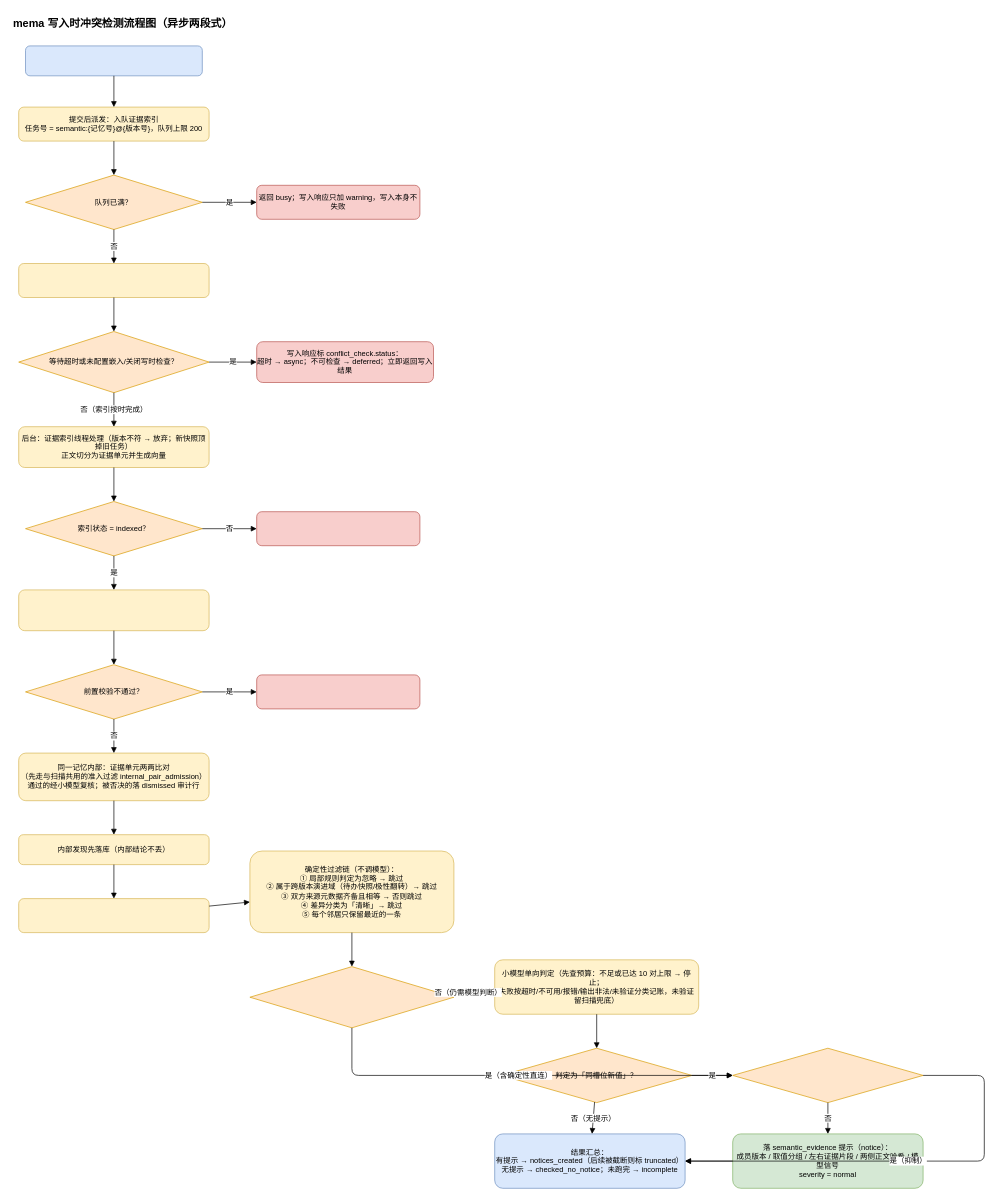
The diagram is 1002 pixels wide and 1200 high, and some of its shapes have lost their labels. Here are the shapes that lost their labels. From the top down, the box of each, then its label:
(25, 45, 202, 76): 写入落盘成功（insert_memory 已提交）
(18, 263, 209, 298): 同步等待索引结果 默认最多 3000 毫秒（可配置为 0 = 完全不等待）
(256, 511, 420, 546): 仅完成索引（冲突检查等下一轮）
(18, 589, 209, 631): 入队语义冲突检查（单线程串行） 前置校验：pending / active / 版本·哈希一致 / 后端与向量空间可用
(256, 674, 420, 709): 结束并给出原因： skipped / incomplete / stale_snapshot
(18, 898, 209, 933): 跨记忆：每个证据单元取向量近邻 top5 （同工作区、排除自身、只要正文类单元）
(249, 966, 454, 1028): 确定性直连：同一键、值不同 → 直接判定，不调用模型
(732, 1048, 923, 1103): 槽位正被应用中的变更占用？ （命中则抑制，不发新提示）
